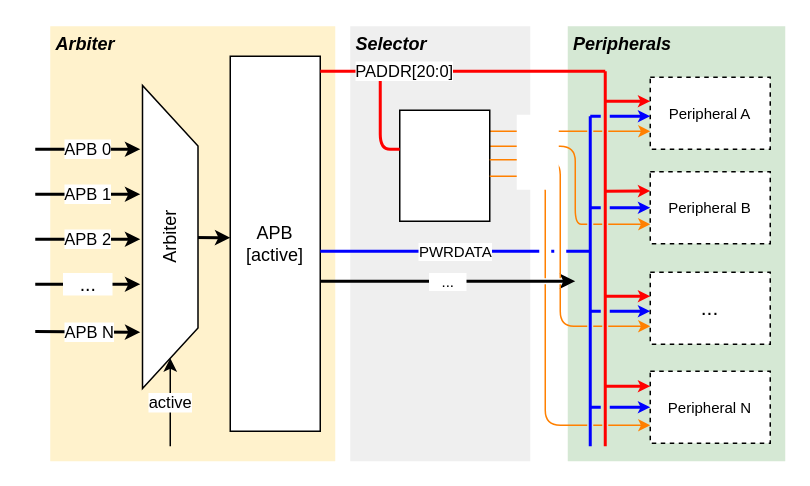
Some shapes in this 810 by 486 pixel diagram are drawn without their labels. The shapes that lost their labels are listed below. From the top down, each one's centre as x and y in pixels, then its label:
At point 444,165: "Memory-map Decoder".
At point 537,151: "PSEL".
